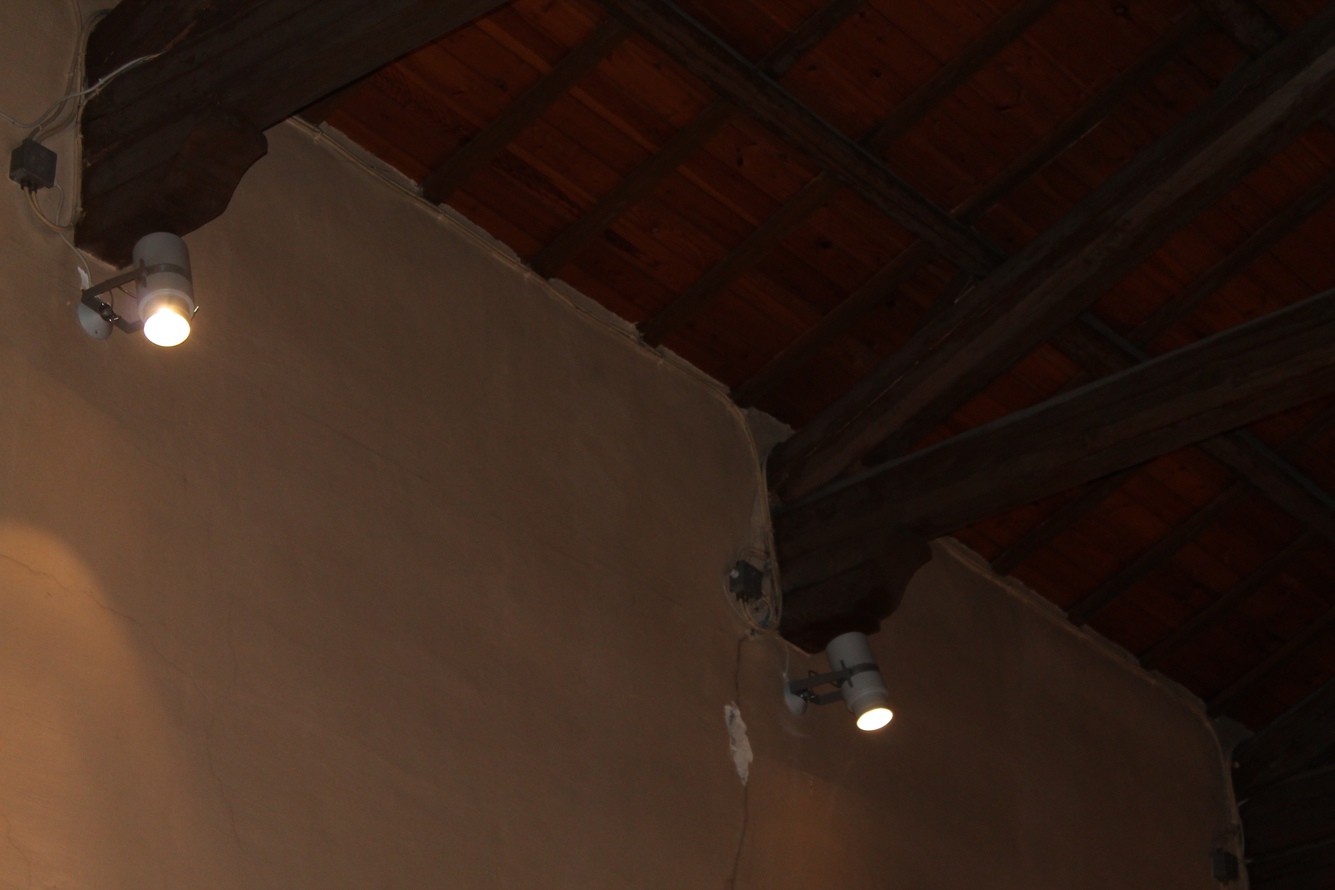Crack: (702, 584, 836, 857)
